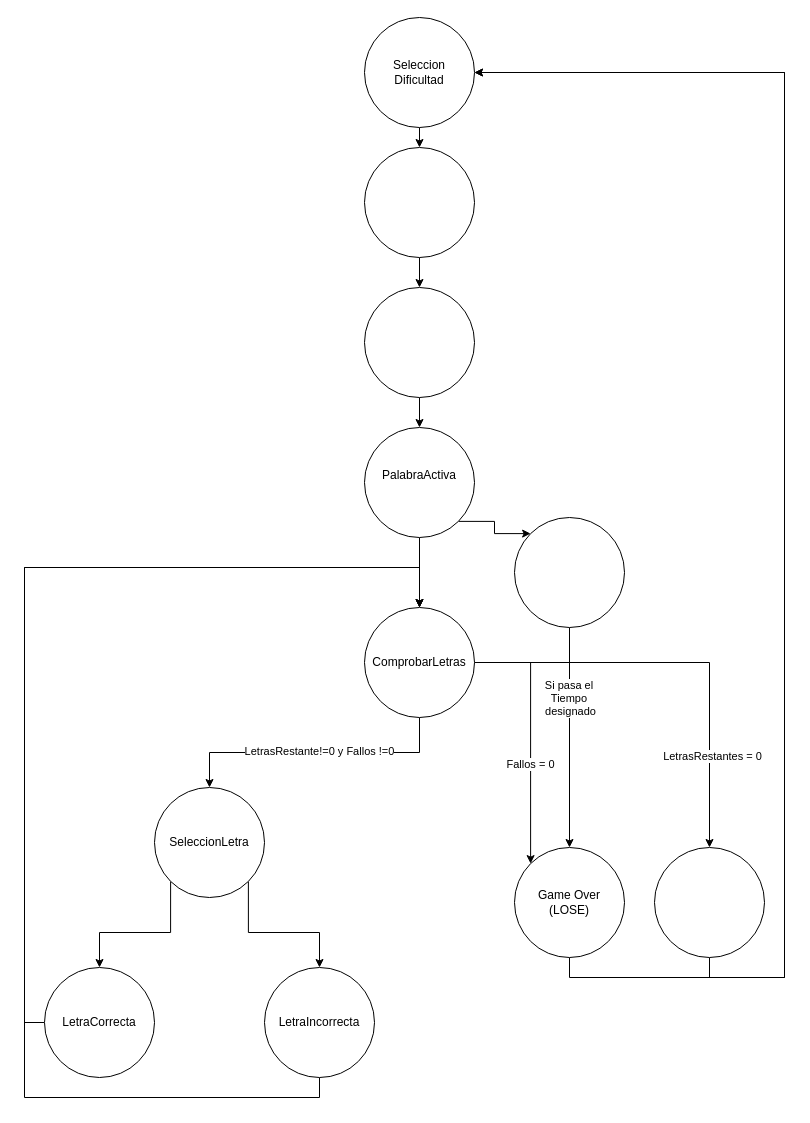
The diagram is 810 pixels wide and 1123 high, and some of its shapes have lost their labels. Here are the shapes that lost their labels. From the top down, the centre of each, then its label:
At point (419, 202): "LlamadaPalabra".
At point (419, 342): "EsperaPalabra".
At point (569, 572): "Temporizador".
At point (709, 902): "Game Over (WIN)".
